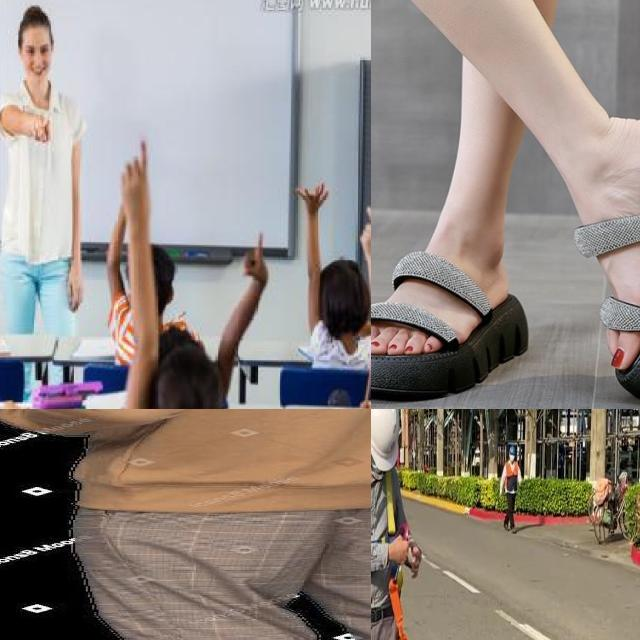Harness: (381, 572, 407, 640)
Sandals: (371, 107, 640, 409)
face_nomask: (22, 33, 54, 80)
hand_noglove: (117, 137, 149, 220), (242, 233, 269, 285), (292, 182, 331, 213), (66, 268, 83, 312), (360, 205, 371, 260), (31, 112, 49, 144), (0, 400, 27, 409), (358, 400, 371, 409)
head_nohelmet: (135, 334, 233, 409), (315, 257, 371, 342), (120, 248, 185, 313), (16, 0, 58, 36)
person: (0, 409, 371, 640), (0, 0, 92, 333)
